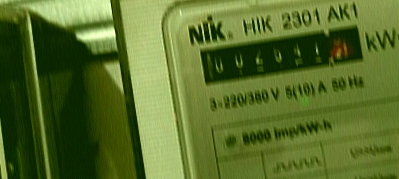0: (208, 51, 224, 74), (228, 46, 243, 68)
1: (307, 35, 320, 57)
2: (248, 44, 263, 66)
4: (288, 37, 303, 60)
5: (267, 40, 282, 64)
6: (330, 44, 343, 61)
screen: (186, 14, 374, 94)
